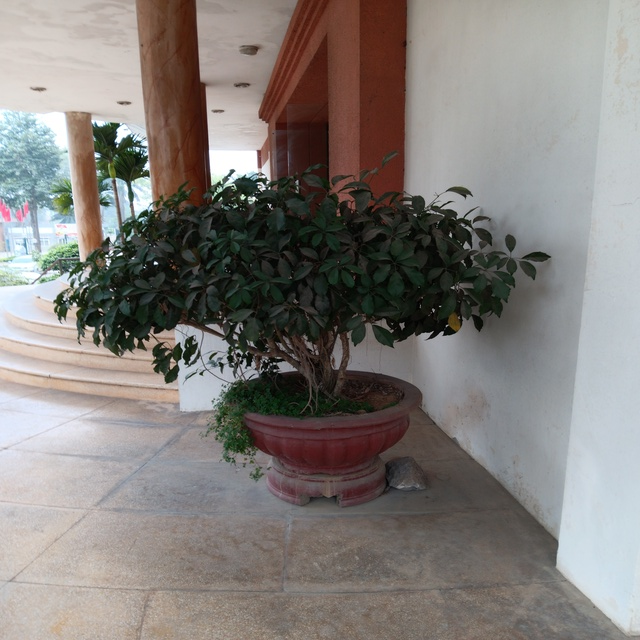caycanh: (55, 158, 546, 511)
